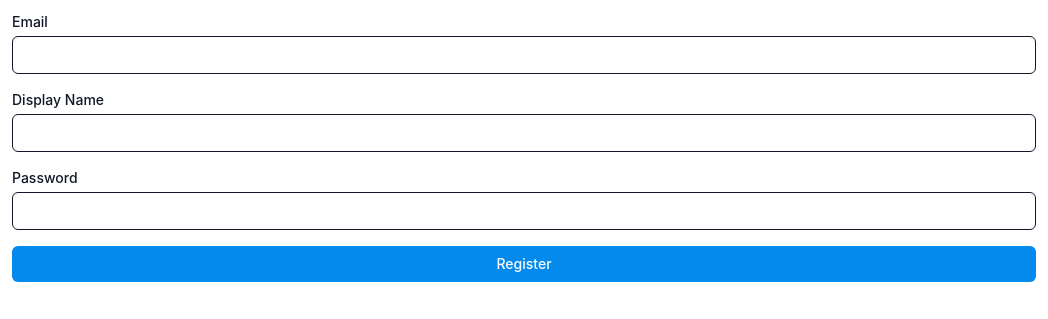
Test: RegisterForm › shows error when non-EPAM domain is entered
Step 1. Type "test@gmail.com" into the field labelled "Email" → (524, 55), box left=12, top=36, right=1036, bottom=74
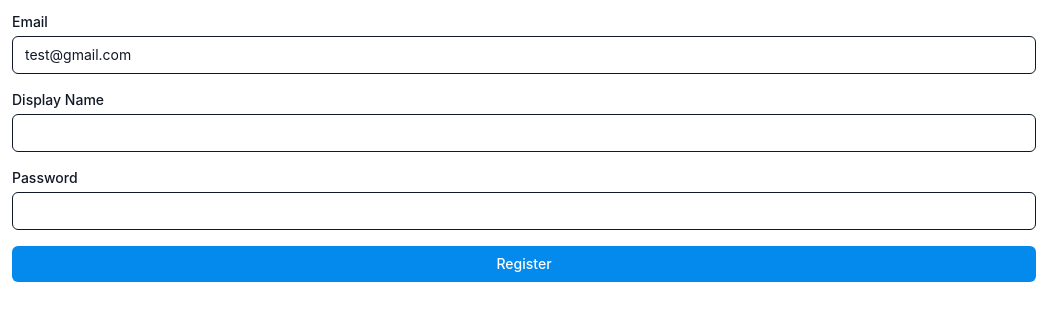
Step 2. Type "Test User" into the field labelled "Display Name" → (524, 133), box left=12, top=114, right=1036, bottom=152
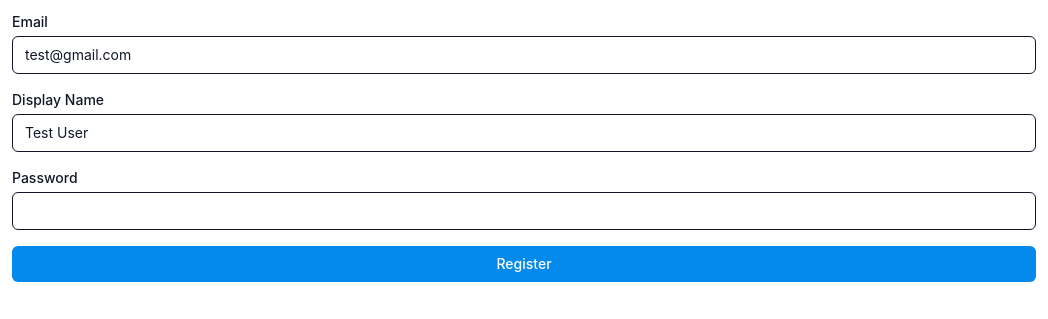
Step 3. Type "Password1" into the password field labelled "Password" → (524, 211), box left=12, top=192, right=1036, bottom=230
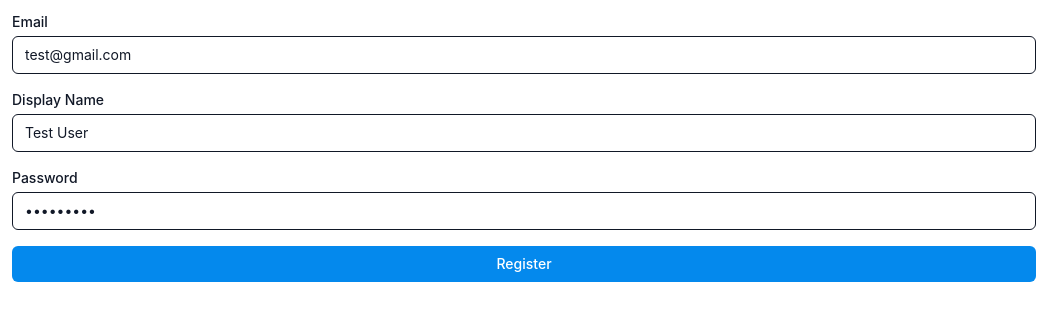
Step 4. Click the button "Register" → click(524, 264), box left=12, top=246, right=1036, bottom=282
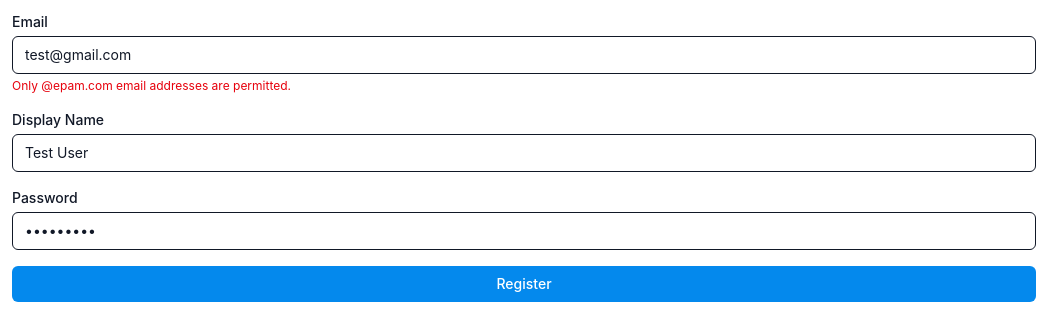
Result: the text "Only @epam.com email addresses are permitted." is shown at left=12, top=78, right=291, bottom=93
